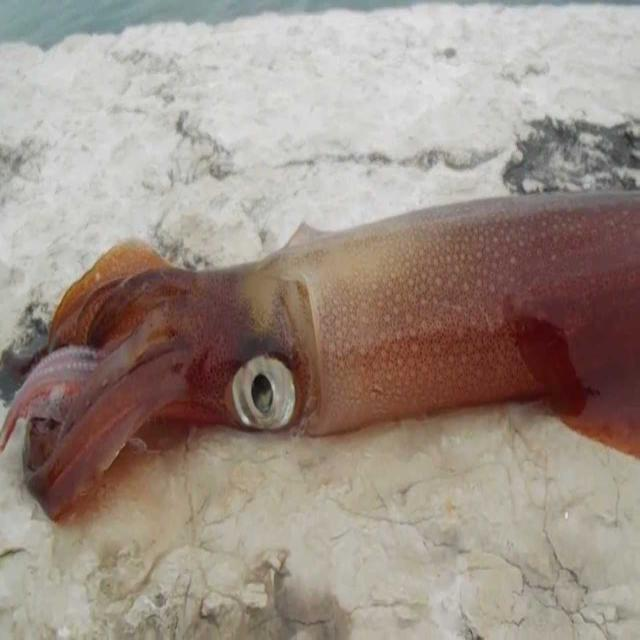SQUID: (0, 176, 640, 537)
